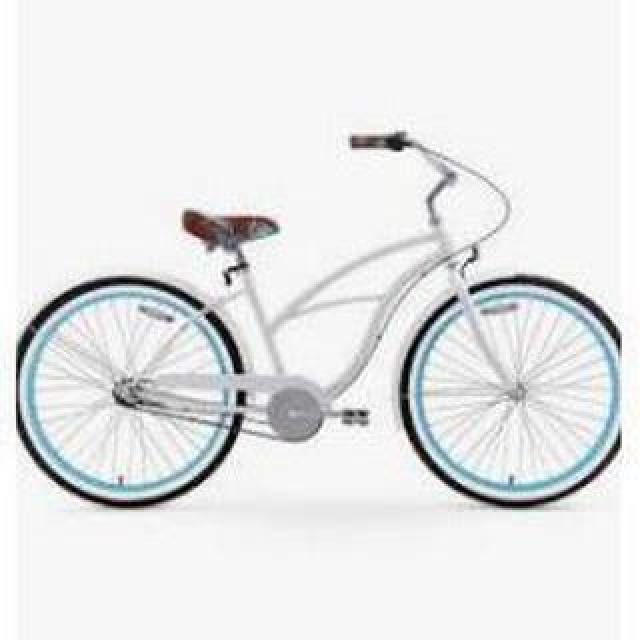Person: (14, 135, 626, 517)
